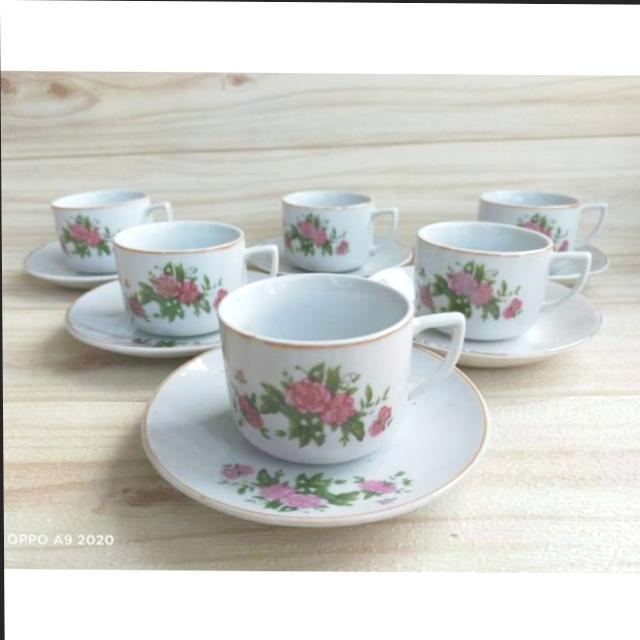cup: (149, 273, 498, 539)
